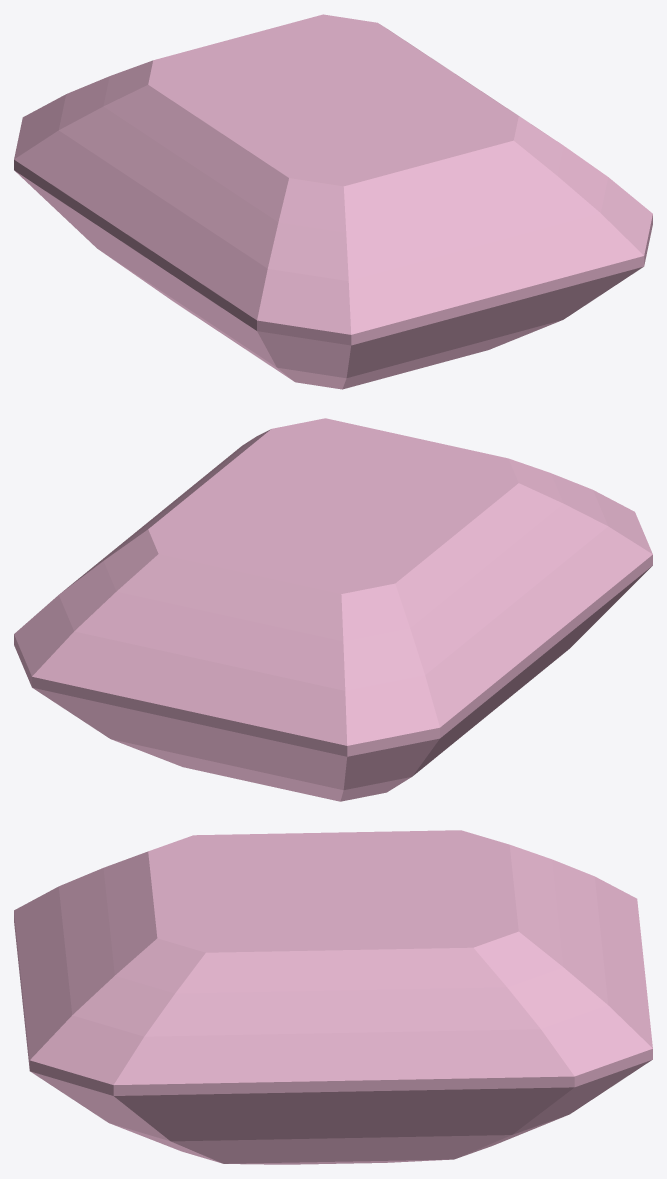
Rendered from stone-kunzite.glb.
3 views of the same model, one above another, from view 1: azimuth 30°, elevation 25°; view 2: azimuth 150°, elevation 25°; view 3: azimuth 270°, elevation 25° (orthographic). The views are drawn at different scales.
Visible parts, largest first — view 1: Gemstone Kunzite; view 2: Gemstone Kunzite; view 3: Gemstone Kunzite.
Boxes of the visible parts, bbox=[...] form: Gemstone Kunzite: bbox=[14, 14, 652, 389]; Gemstone Kunzite: bbox=[14, 418, 652, 801]; Gemstone Kunzite: bbox=[14, 830, 652, 1164].
Bounding box in the file's own units: 2.08 × 1.15 × 2.66.
